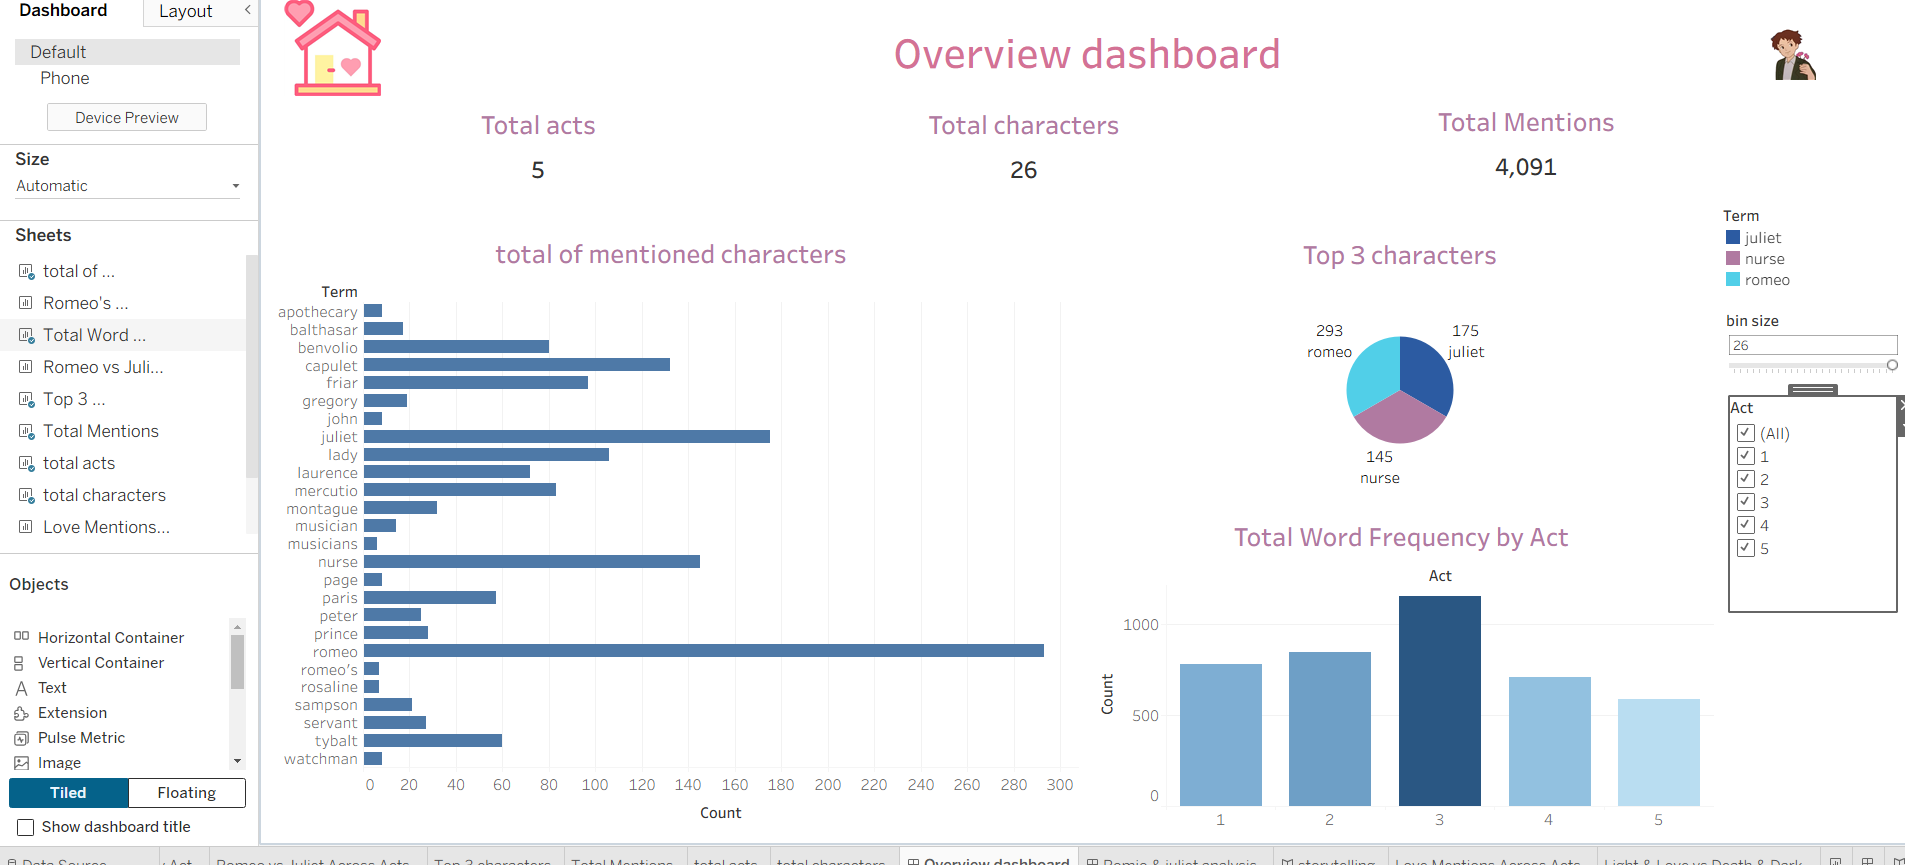

The page's visual inventory and layout, read from the dashboard file:
{"tool":"tableau","page":{"name":"Overview dashboard","canvas":[1000,1000],"units":"permille","ordinal":0},"visuals":[{"type":"image","param":"Image/fae654526f1ad5f88f457362dd05b59d.jpg","box":[15.1,5.9,68.8,114]},{"type":"title","box":[4.8,9.4,990.3,116.3]},{"type":"dashboard-object","box":[906.5,40,39.2,61.1]},{"type":"worksheet","title":"Total Mentions","mark":"Automatic","box":[642.7,124.6,244.4,145.7]},{"type":"worksheet","title":"total acts","mark":"Automatic","box":[65.8,128.1,205.8,153.9]},{"type":"worksheet","title":"total characters","mark":"Automatic","box":[331.3,128.1,260.7,144.5]},{"type":"legend","title":"Top 3 characters","param":"[federated.0n1zgso1duuxgc1gr50g70vfslyl].[none:Term:nk]","box":[883.5,247.9,92.9,122.2]},{"type":"worksheet","title":"total of mentioned characters","mark":"Automatic","rows":["Term"],"cols":["Count"],"box":[2.4,279.7,492.5,702.7]},{"type":"worksheet","title":"Top 3 characters","mark":"Pie","box":[501.5,280.9,374.2,310.2]},{"type":"parameter","param":"[Parameters].[Parameter 1117707892903937]","box":[885.3,371.3,105.6,110.5]},{"type":"filter","title":"Total Word Frequency by Act","param":"[federated.0n1zgso1duuxgc1gr50g70vfslyl].[none:Act:nk]","box":[887.8,473.6,100.2,251.5]},{"type":"worksheet","title":"Total Word Frequency by Act","mark":"Automatic","rows":["Count"],"cols":["Act"],"box":[500.9,612.2,377.2,371.3]}]}

Visuals, with their boxes on the dashboard's canvas, which has no fixed pixel size, in thousandths of its width and height (x1, y1, x2, y2). These are canvas units, not pixel positions in the 1905x865 screenshot, which may show the page scaled, cropped or inside an application window:
image: BBox(15, 6, 84, 120)
title: BBox(5, 9, 995, 126)
dashboard-object: BBox(906, 40, 946, 101)
"Total Mentions" worksheet: BBox(643, 125, 887, 270)
"total acts" worksheet: BBox(66, 128, 272, 282)
"total characters" worksheet: BBox(331, 128, 592, 273)
"Top 3 characters" legend: BBox(884, 248, 976, 370)
"total of mentioned characters" worksheet: BBox(2, 280, 495, 982)
"Top 3 characters" worksheet (Pie marks): BBox(502, 281, 876, 591)
parameter: BBox(885, 371, 991, 482)
"Total Word Frequency by Act" filter: BBox(888, 474, 988, 725)
"Total Word Frequency by Act" worksheet: BBox(501, 612, 878, 984)
